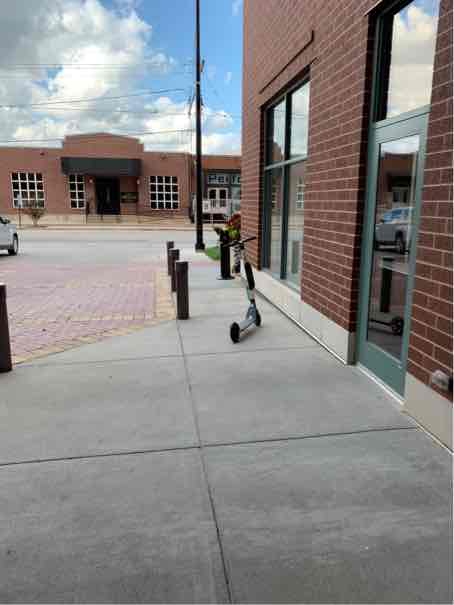scooter: (223, 230, 267, 344)
